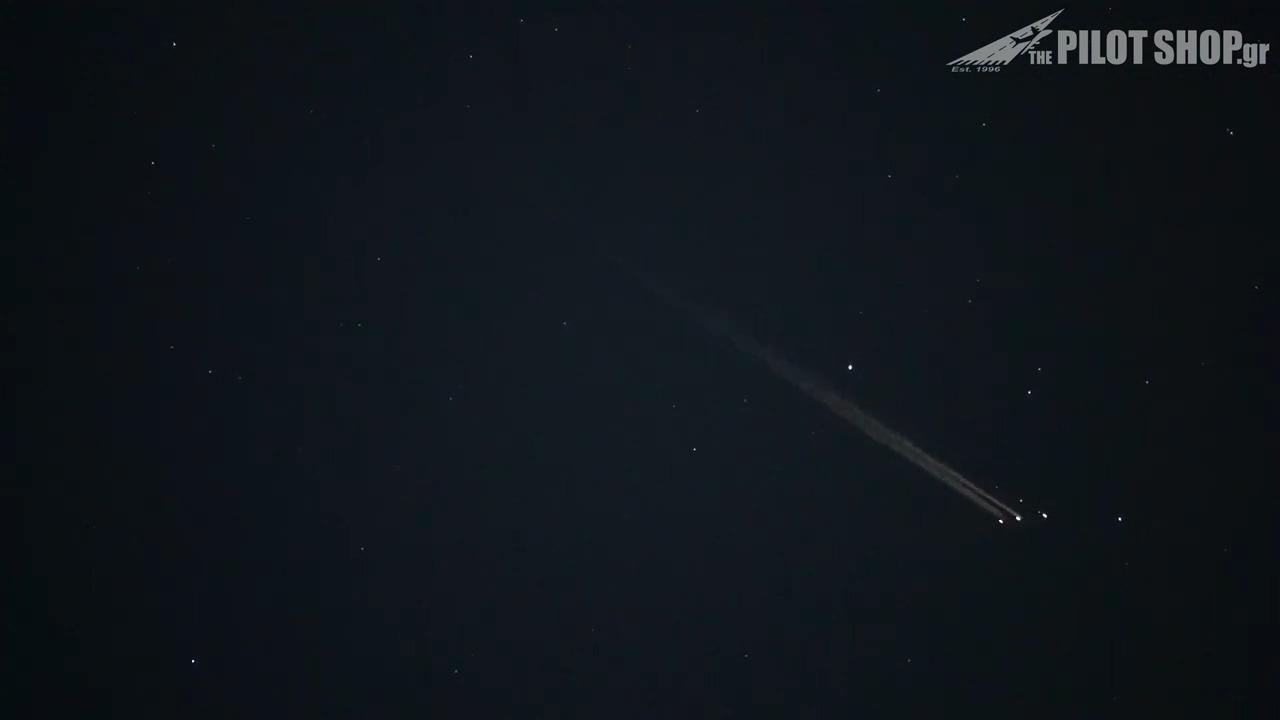Plane: (936, 452, 1055, 532)
